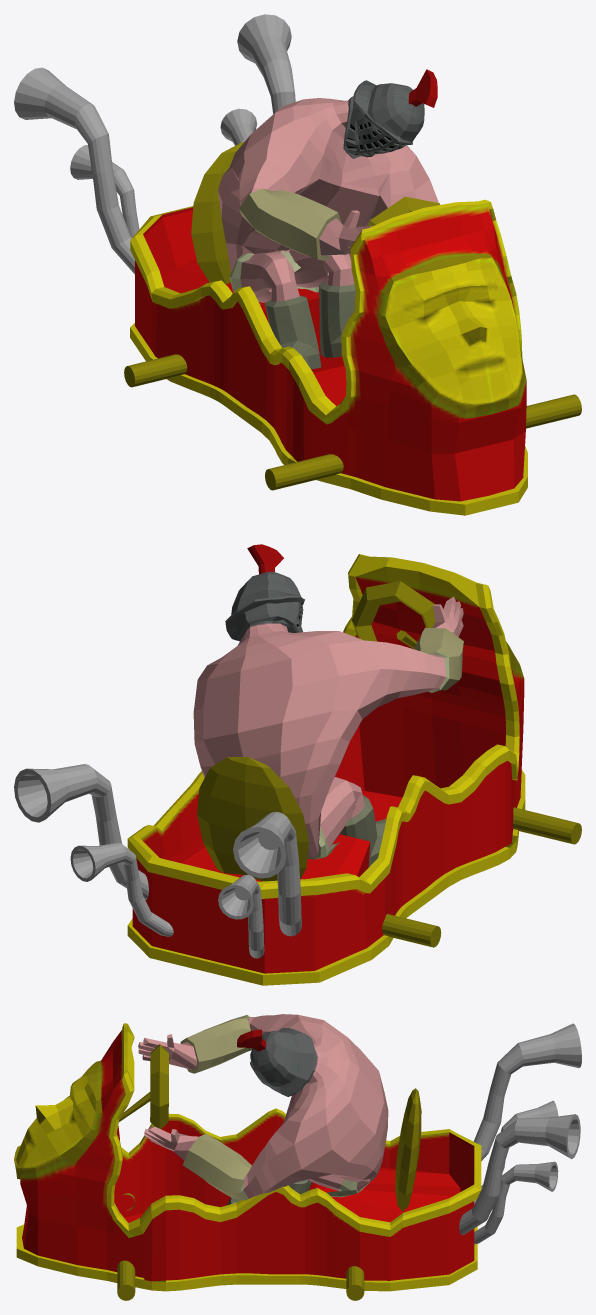
Rendered from GladiGiroIzq_000548.obj.
The picture shows the model from 3 angles, top to bottom: view 1: azimuth 30°, elevation 25°; view 2: azimuth 150°, elevation 25°; view 3: azimuth 270°, elevation 25°; orthographic projection. The views are drawn at different scales.
Parts seen in each view (by area): view 1: GladiChasis_GladiChasisH, Gadiador_Gladiador_H, GladiTubos_GladiTubosH, GladiVolante_GladiVolanteH; view 2: GladiChasis_GladiChasisH, Gadiador_Gladiador_H, GladiTubos_GladiTubosH, GladiVolante_GladiVolanteH; view 3: GladiChasis_GladiChasisH, Gadiador_Gladiador_H, GladiTubos_GladiTubosH, GladiVolante_GladiVolanteH.
Boxes of the visible parts, x1=… form: GladiChasis_GladiChasisH: x1=130, y1=199, x2=527, y2=515; Gadiador_Gladiador_H: x1=218, y1=69, x2=438, y2=369; GladiTubos_GladiTubosH: x1=14, y1=14, x2=295, y2=274; GladiVolante_GladiVolanteH: x1=124, y1=142, x2=581, y2=490; GladiChasis_GladiChasisH: x1=127, y1=554, x2=525, y2=985; Gadiador_Gladiador_H: x1=193, y1=544, x2=463, y2=867; GladiTubos_GladiTubosH: x1=14, y1=764, x2=301, y2=958; GladiVolante_GladiVolanteH: x1=197, y1=581, x2=581, y2=947; GladiChasis_GladiChasisH: x1=14, y1=1023, x2=481, y2=1291; Gadiador_Gladiador_H: x1=138, y1=1014, x2=388, y2=1205; GladiTubos_GladiTubosH: x1=459, y1=1023, x2=581, y2=1244; GladiVolante_GladiVolanteH: x1=117, y1=1044, x2=421, y2=1300.
Size of the model in its own units: 5.46 by 5.27 by 10.78.
4 materials, 4 textured.
